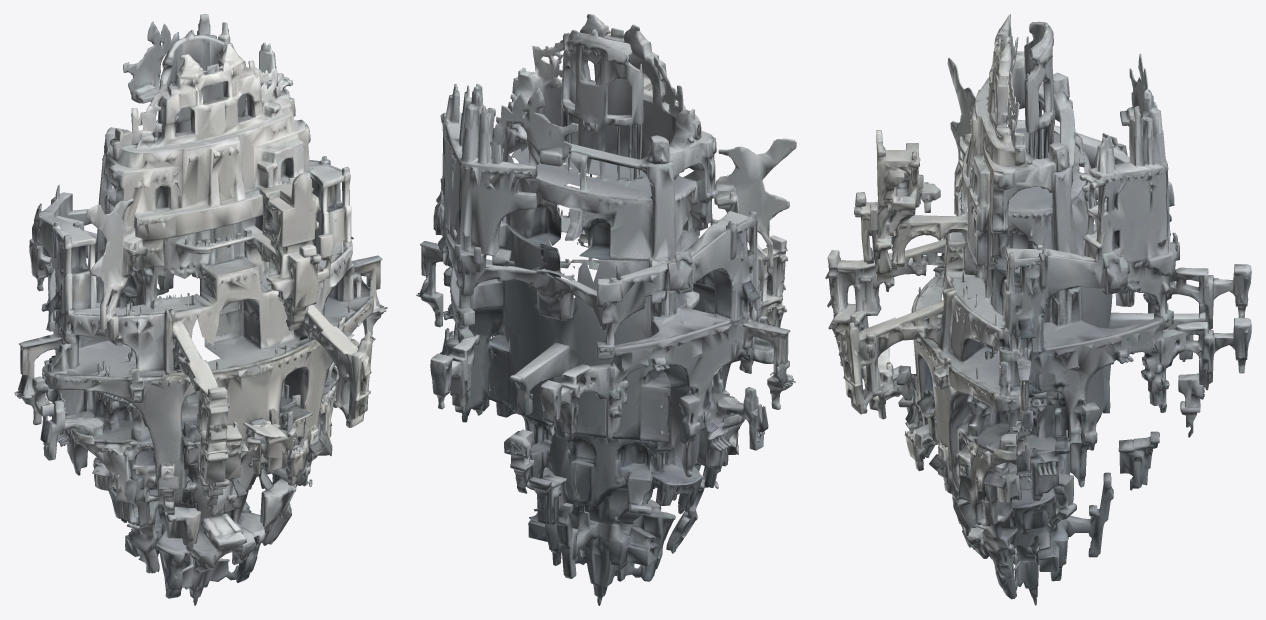
File: skyruin.glb
3 renders of one model, left to right at view 1: azimuth 30°, elevation 25°; view 2: azimuth 150°, elevation 25°; view 3: azimuth 270°, elevation 25°, orthographic. The views are drawn at different scales.
Visible parts, largest first — view 1: tripo_node_72b3df06-dd0b-4fe6-ba3a-df9ab20db1e4; view 2: tripo_node_72b3df06-dd0b-4fe6-ba3a-df9ab20db1e4; view 3: tripo_node_72b3df06-dd0b-4fe6-ba3a-df9ab20db1e4.
Part boxes in pixels (<box>): tripo_node_72b3df06-dd0b-4fe6-ba3a-df9ab20db1e4: <box>14,14,387,605</box>; tripo_node_72b3df06-dd0b-4fe6-ba3a-df9ab20db1e4: <box>416,14,796,605</box>; tripo_node_72b3df06-dd0b-4fe6-ba3a-df9ab20db1e4: <box>825,14,1251,605</box>.
Bounding box in the file's own units: 0.663 × 0.9807 × 0.6498.
Materials: 1 (1 with a texture image).
